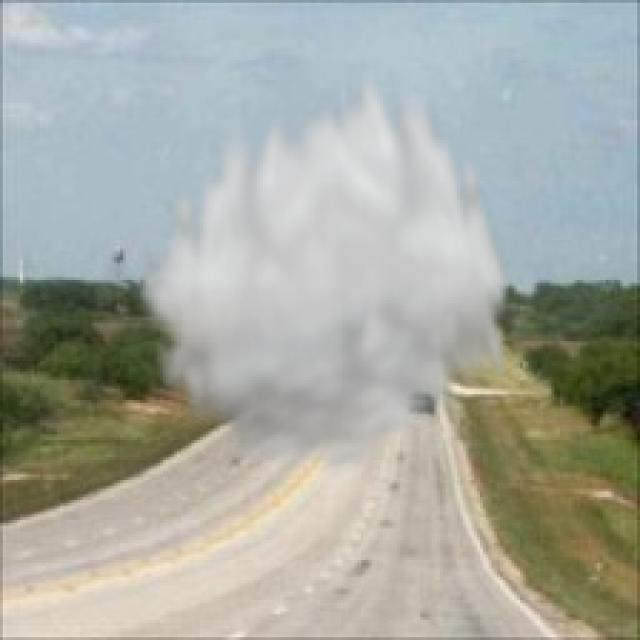Smoke: (132, 57, 514, 480)
